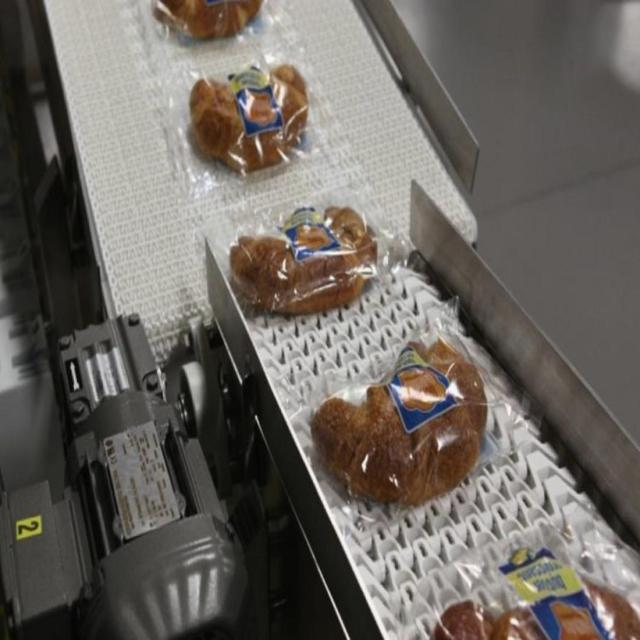food: (310, 334, 488, 508), (228, 202, 378, 317), (188, 58, 309, 177)
